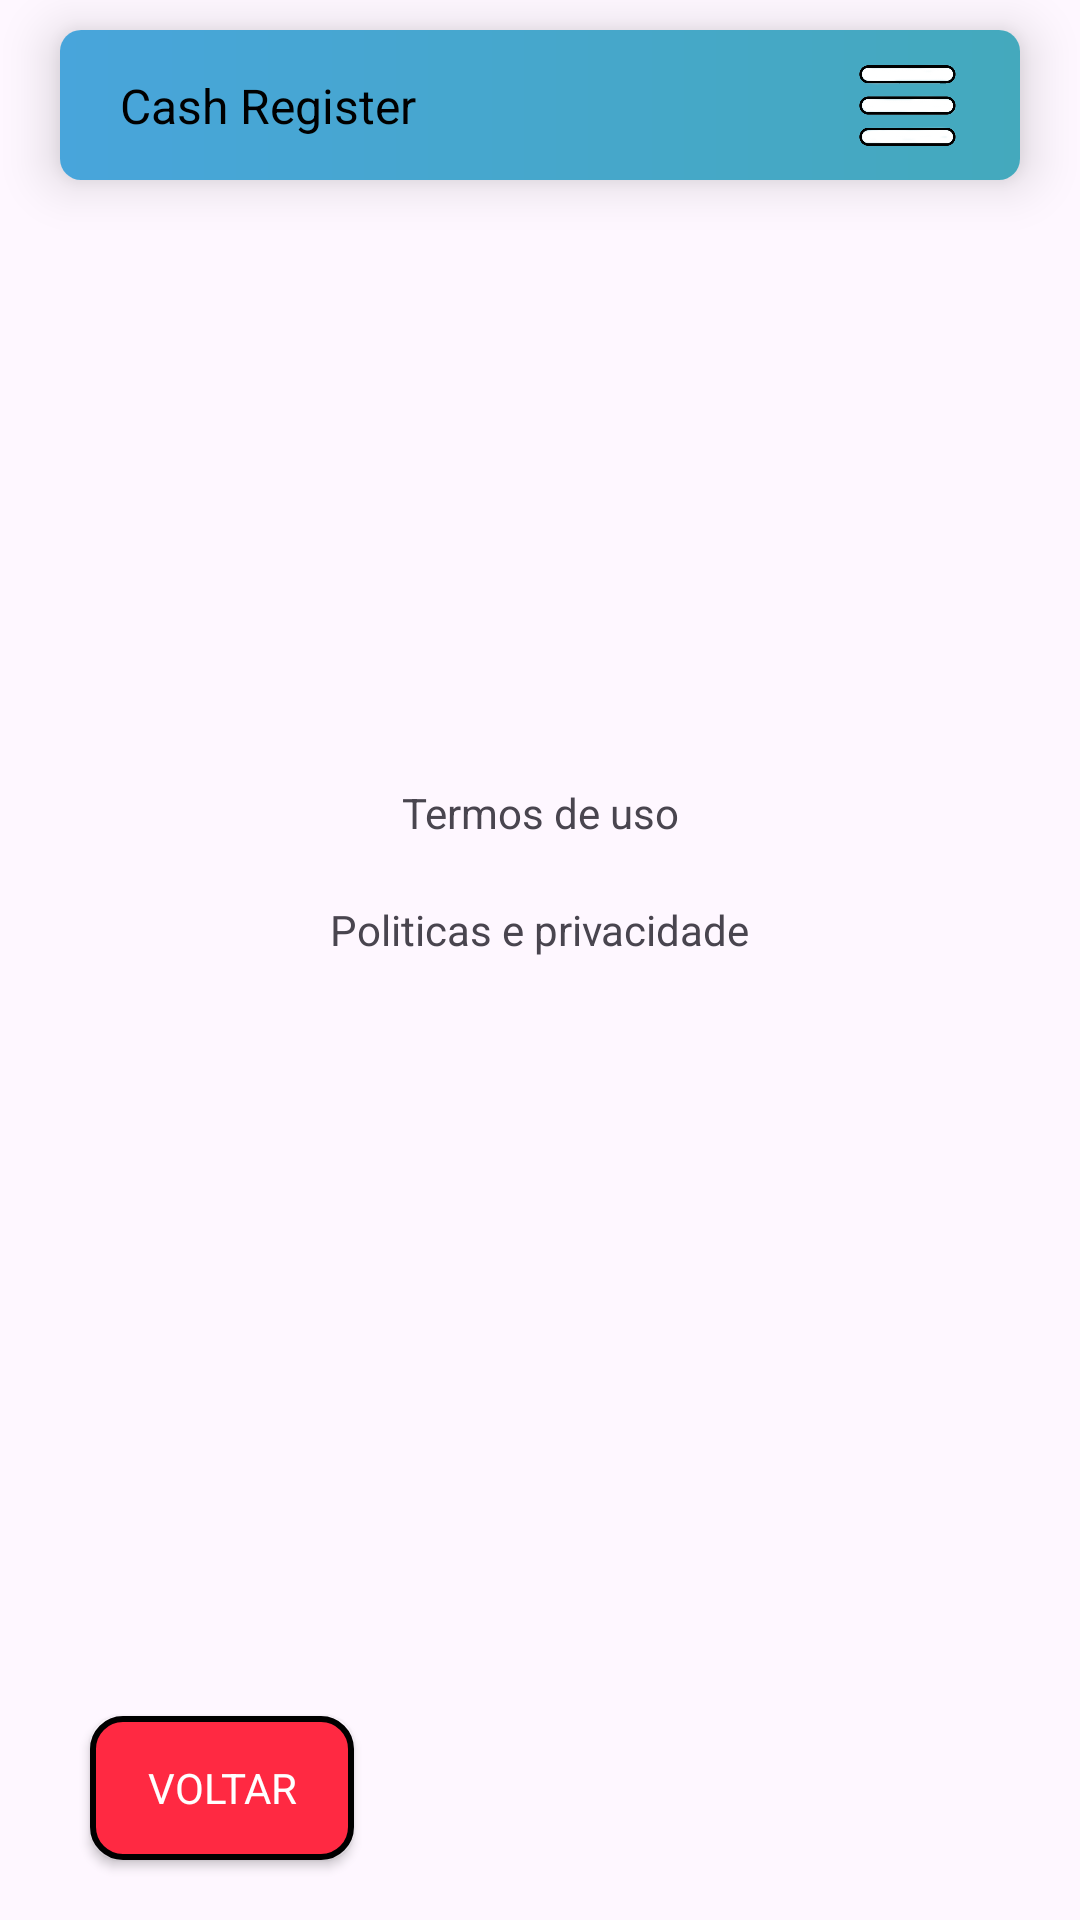

Named icons in this screenshot (1080x1920) and their bounding boxes, (x1, y1, x2, y2):
menu: (859, 65, 956, 146)
